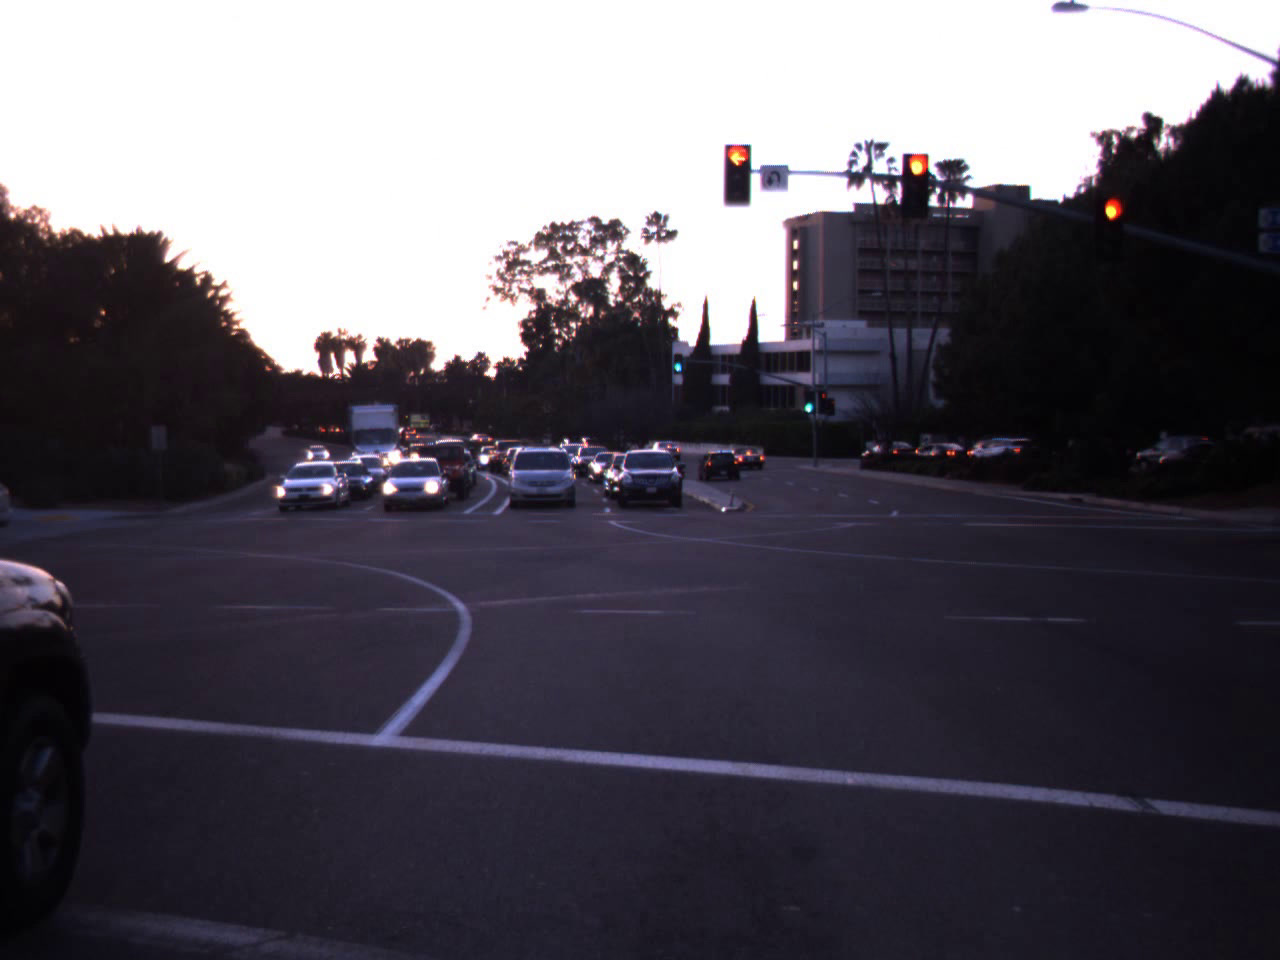go: (800, 380, 818, 415), (671, 343, 686, 373)
stop: (892, 145, 946, 230), (708, 138, 768, 205), (1092, 191, 1134, 272)
